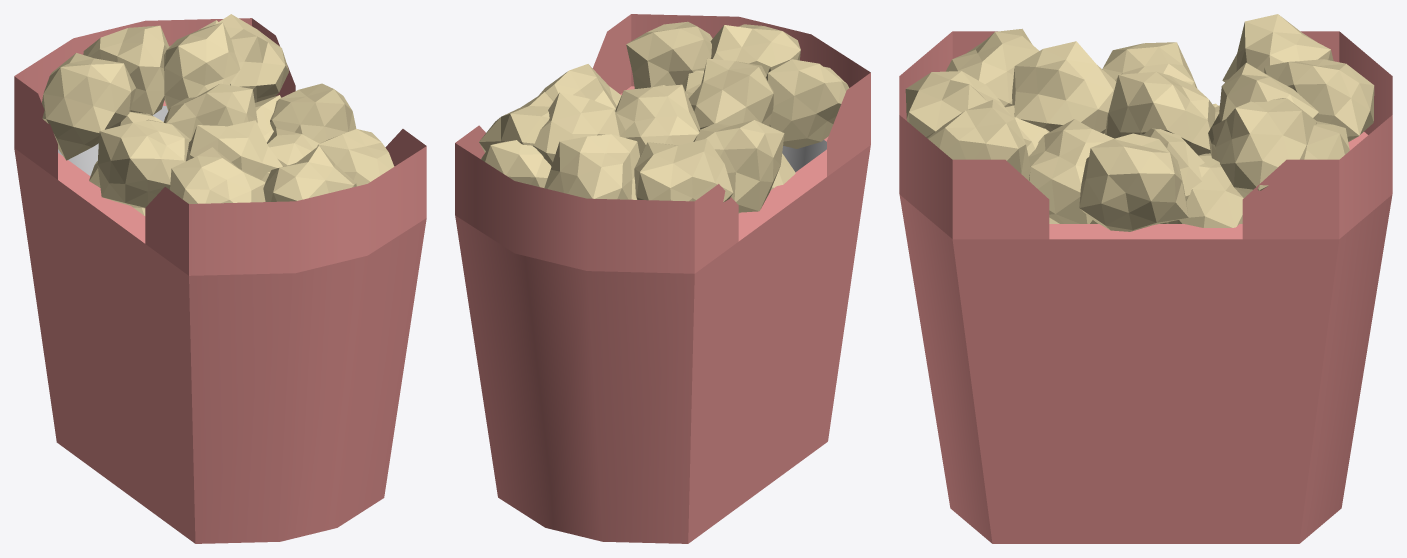
Rendered from popcorn-carton.fbx.
The picture shows the model from 3 angles, left to right: view 1: azimuth 30°, elevation 25°; view 2: azimuth 150°, elevation 25°; view 3: azimuth 270°, elevation 25°; orthographic projection. The views are drawn at different scales.
Visible parts, largest first — view 1: popcorn-carton; view 2: popcorn-carton; view 3: popcorn-carton.
Boxes of the visible parts, <box> form: popcorn-carton: <box>14,14,426,543</box>; popcorn-carton: <box>455,14,870,543</box>; popcorn-carton: <box>899,14,1392,543</box>.
Bounding box in the file's own units: 16.93 × 26.18 × 26.53.
